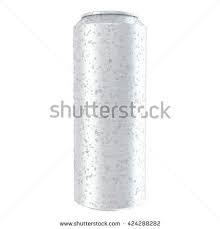Aluminum can: (65, 9, 148, 209)
